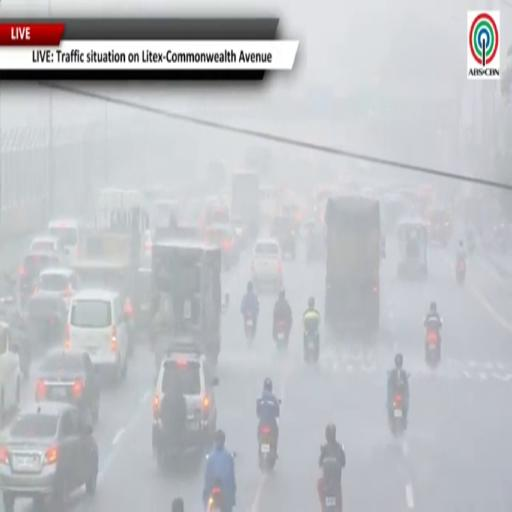car: (0, 402, 98, 511), (152, 343, 218, 467), (65, 290, 128, 380), (36, 348, 100, 424), (19, 250, 64, 303), (25, 292, 67, 346), (0, 323, 20, 420), (34, 267, 78, 308), (251, 238, 283, 290), (204, 223, 239, 269), (48, 219, 83, 262), (272, 215, 297, 260), (30, 234, 67, 261)
motorcycle: (258, 423, 276, 471), (323, 468, 341, 511), (390, 393, 406, 436), (207, 479, 225, 511), (426, 330, 440, 367), (304, 329, 319, 362), (324, 483, 341, 511), (207, 483, 223, 511), (245, 312, 255, 343), (276, 320, 287, 348), (456, 259, 465, 284)
truck: (151, 238, 228, 365), (325, 196, 381, 335), (231, 171, 260, 236)
